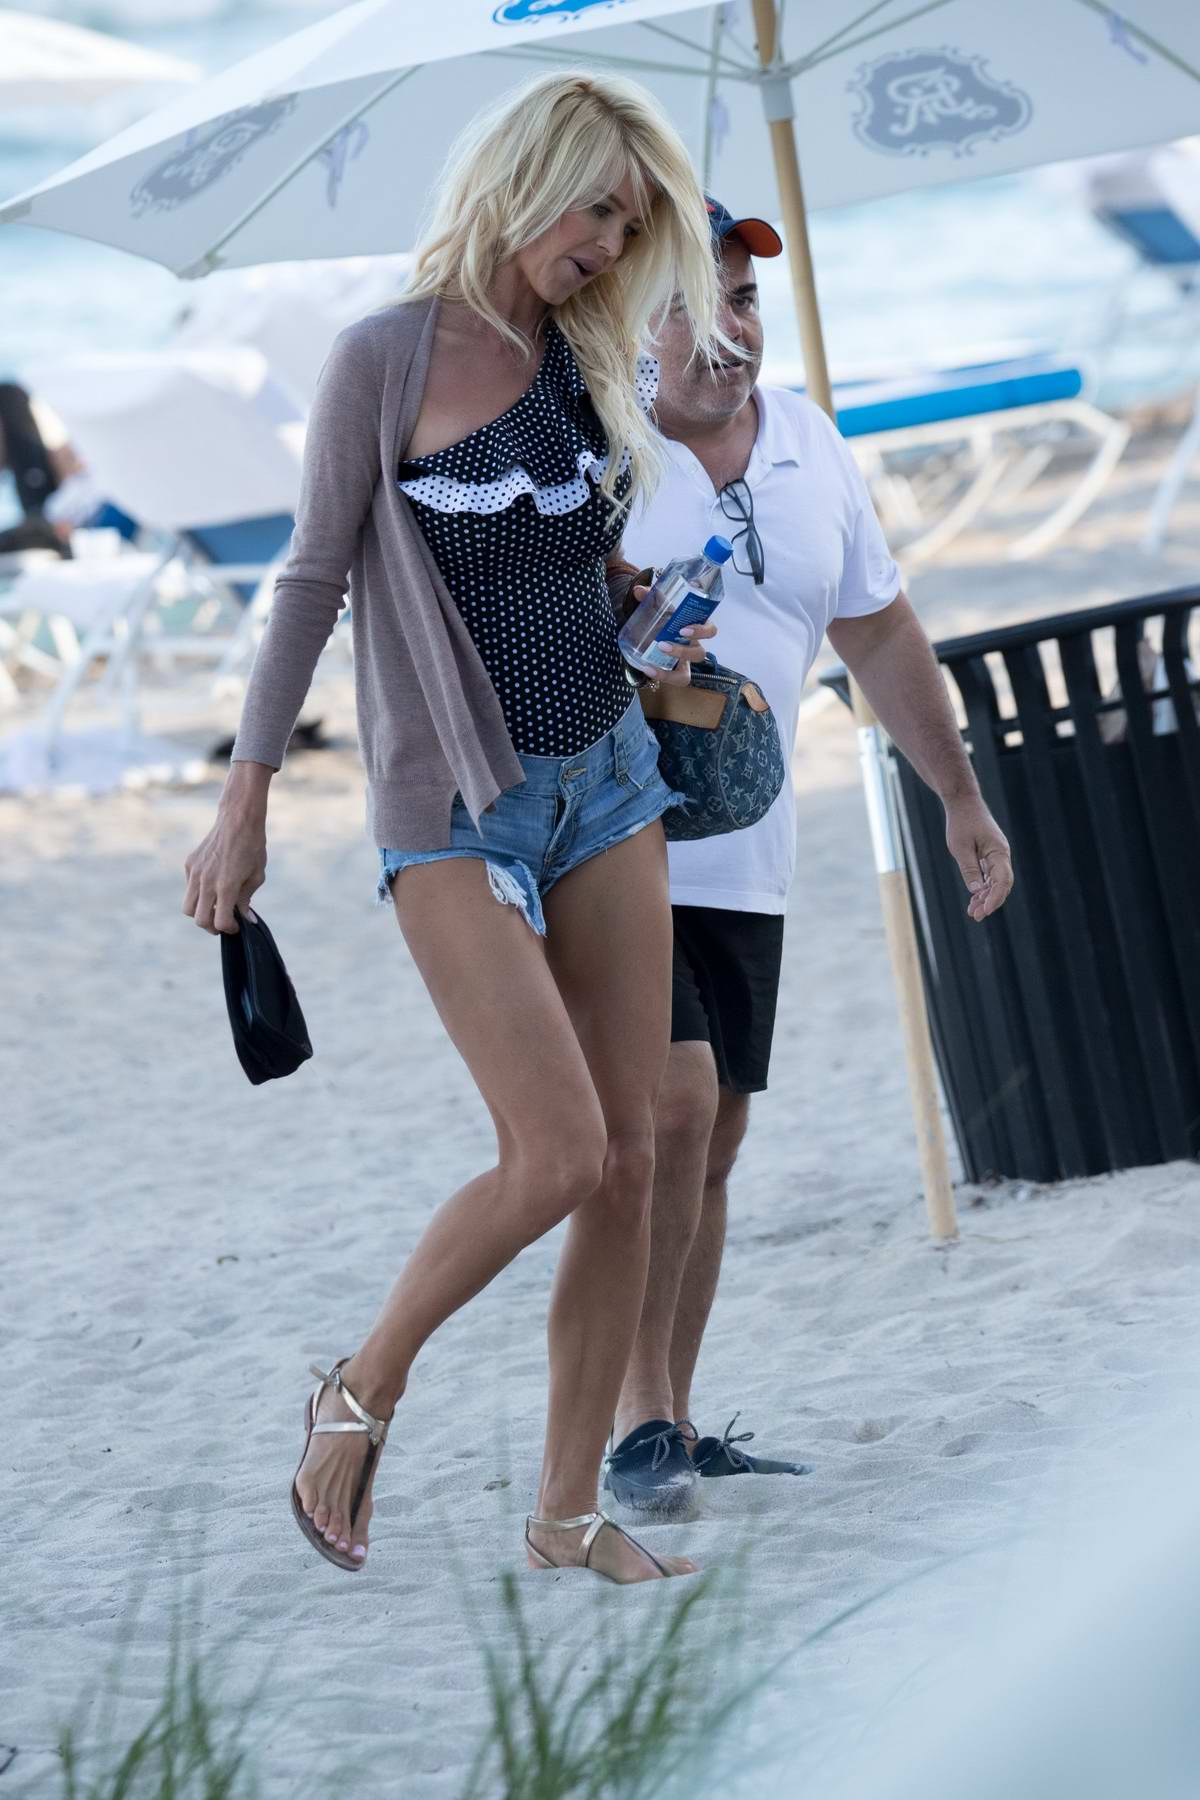Person: (172, 64, 757, 1591), (598, 179, 1022, 1535)
